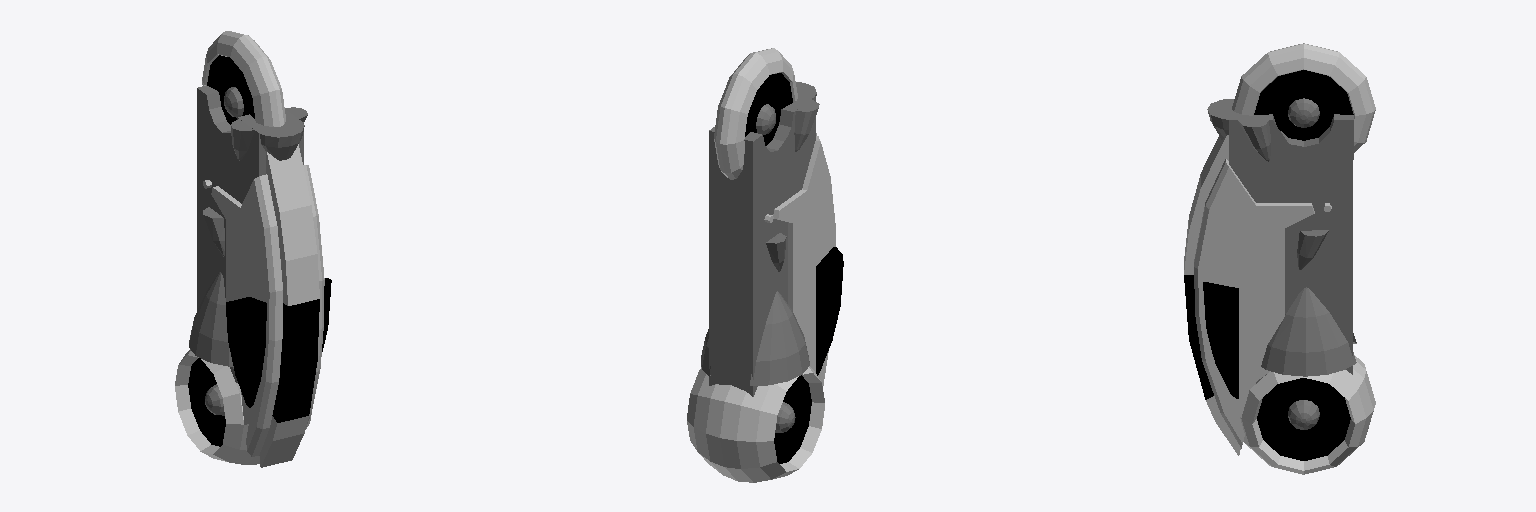
Rendered from lightcyclehigh.obj.
3 views of the same model, side by side, from view 1: azimuth 30°, elevation 25°; view 2: azimuth 150°, elevation 25°; view 3: azimuth 270°, elevation 25° (orthographic).
Visible parts, largest first — view 1: default; view 2: default; view 3: default.
Part boxes in pixels (left/top/right/bottom): default: left=175, top=31, right=331, bottom=467; default: left=687, top=48, right=843, bottom=482; default: left=1184, top=43, right=1375, bottom=474.
Bounding box in the file's own units: 2.52 × 10 × 4.1.